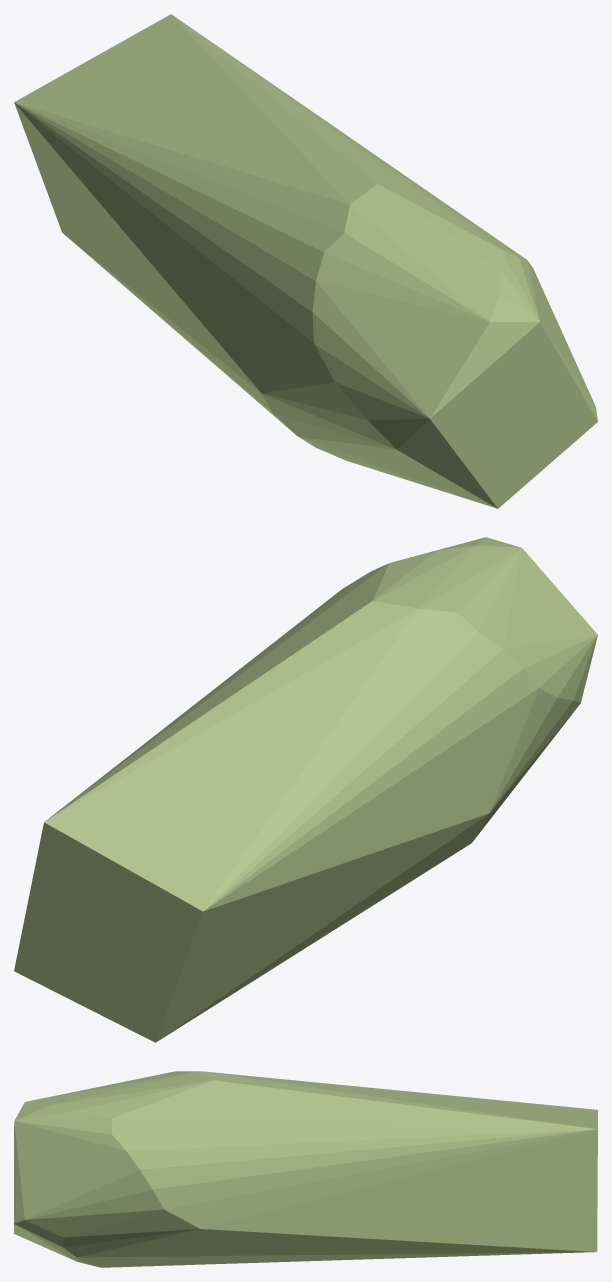
Rendered from dishware_glass_wine_a01.glb.
The picture shows the model from 3 angles, top to bottom: view 1: azimuth 30°, elevation 25°; view 2: azimuth 150°, elevation 25°; view 3: azimuth 270°, elevation 25°; orthographic projection. The views are drawn at different scales.
Visible parts, largest first — view 1: geometry_0; view 2: geometry_0; view 3: geometry_0.
Part boxes in pixels (x1=…): geometry_0: x1=14, y1=14, x2=597, y2=508; geometry_0: x1=14, y1=537, x2=597, y2=1042; geometry_0: x1=14, y1=1071, x2=597, y2=1267.
Bounding box in the file's own units: 0.1657 × 0.1693 × 0.48.
